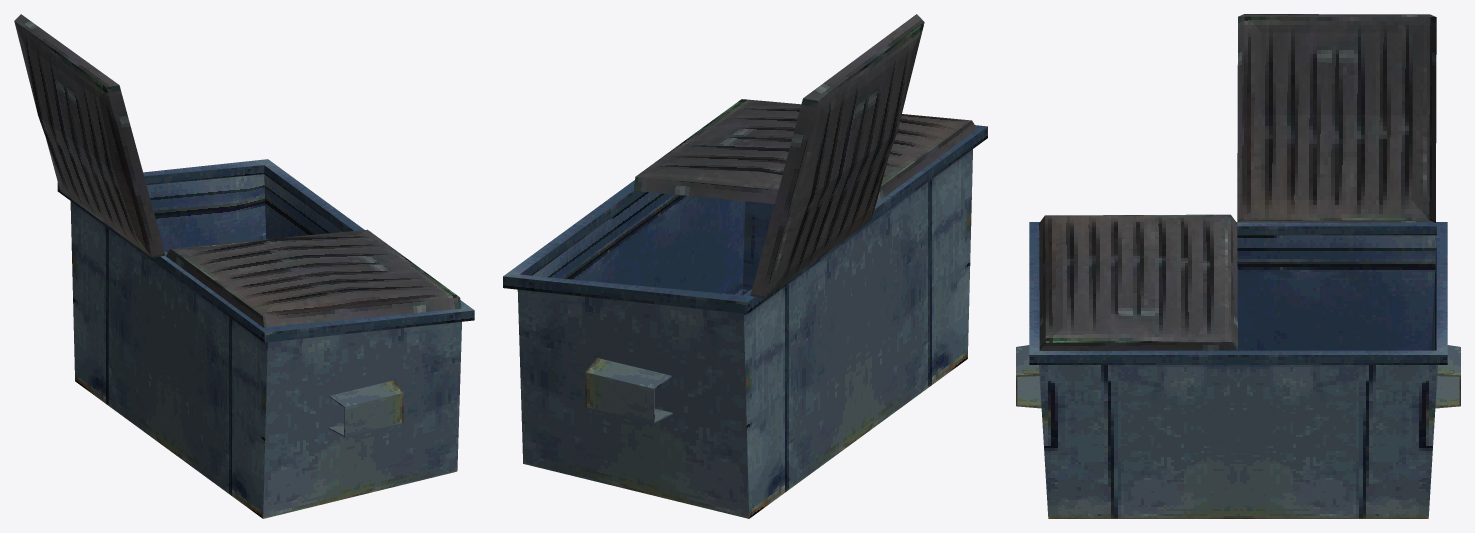
Rendered from dumpster_diagonal_empty_open_blue.glb.
The picture shows the model from 3 angles, left to right: view 1: azimuth 30°, elevation 25°; view 2: azimuth 150°, elevation 25°; view 3: azimuth 270°, elevation 25°; orthographic projection. The views are drawn at different scales.
Parts seen in each view (by area): view 1: dumpster_diagonal_empty_open_blue; view 2: dumpster_diagonal_empty_open_blue; view 3: dumpster_diagonal_empty_open_blue.
Boxes of the visible parts, box(x1,y1,x2,y2) form: dumpster_diagonal_empty_open_blue: box(14, 14, 474, 518); dumpster_diagonal_empty_open_blue: box(503, 14, 987, 518); dumpster_diagonal_empty_open_blue: box(1016, 14, 1460, 518).
Bounding box in the file's own units: 2.53 × 3.48 × 3.67.
Materials: 1 (1 with a texture image).
